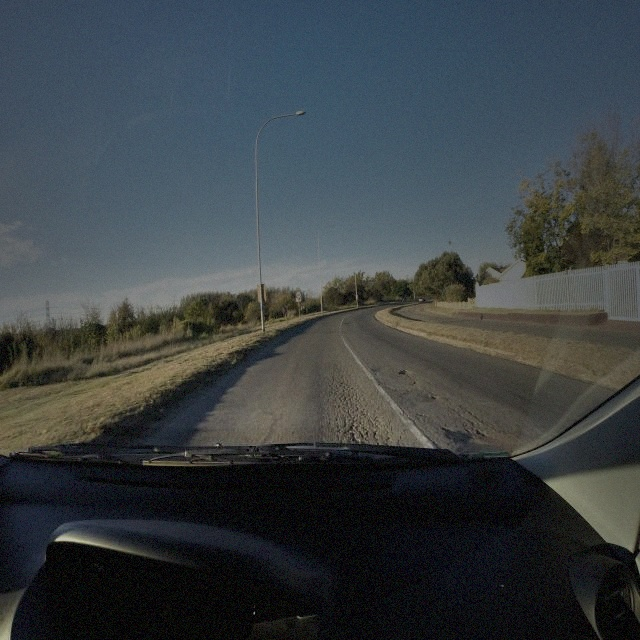pothole: (398, 366, 413, 379)
